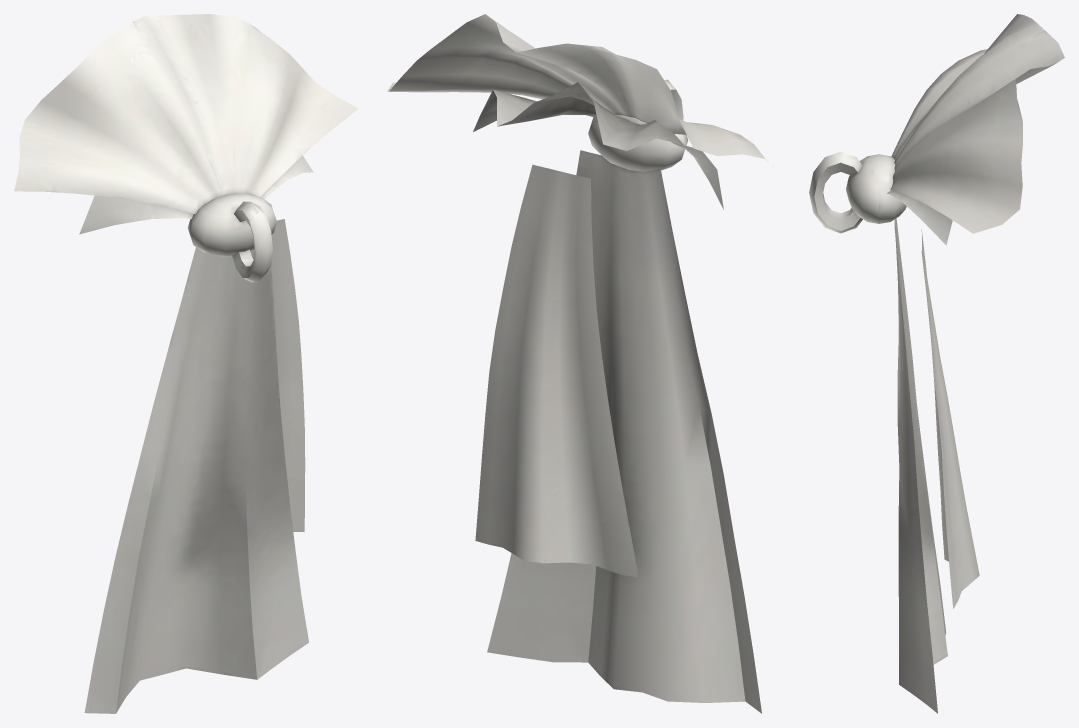
Rendered from chair_drape.glb.
3 renders of one model, left to right at view 1: azimuth 30°, elevation 25°; view 2: azimuth 150°, elevation 25°; view 3: azimuth 270°, elevation 25°, orthographic. The views are drawn at different scales.
Visible parts, largest first — view 1: chair_drape; view 2: chair_drape; view 3: chair_drape.
Part boxes in pixels (box(x1,y1,x2,y2)): chair_drape: box(14, 14, 358, 713); chair_drape: box(387, 14, 773, 713); chair_drape: box(809, 14, 1064, 713).
Size of the model in its own units: 0.5297 by 0.9059 by 0.3342.
1 material, 1 textured.
